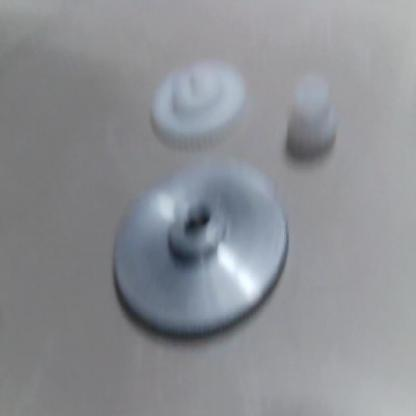FOD: (110, 157, 292, 344), (147, 58, 251, 149), (280, 71, 342, 166)
